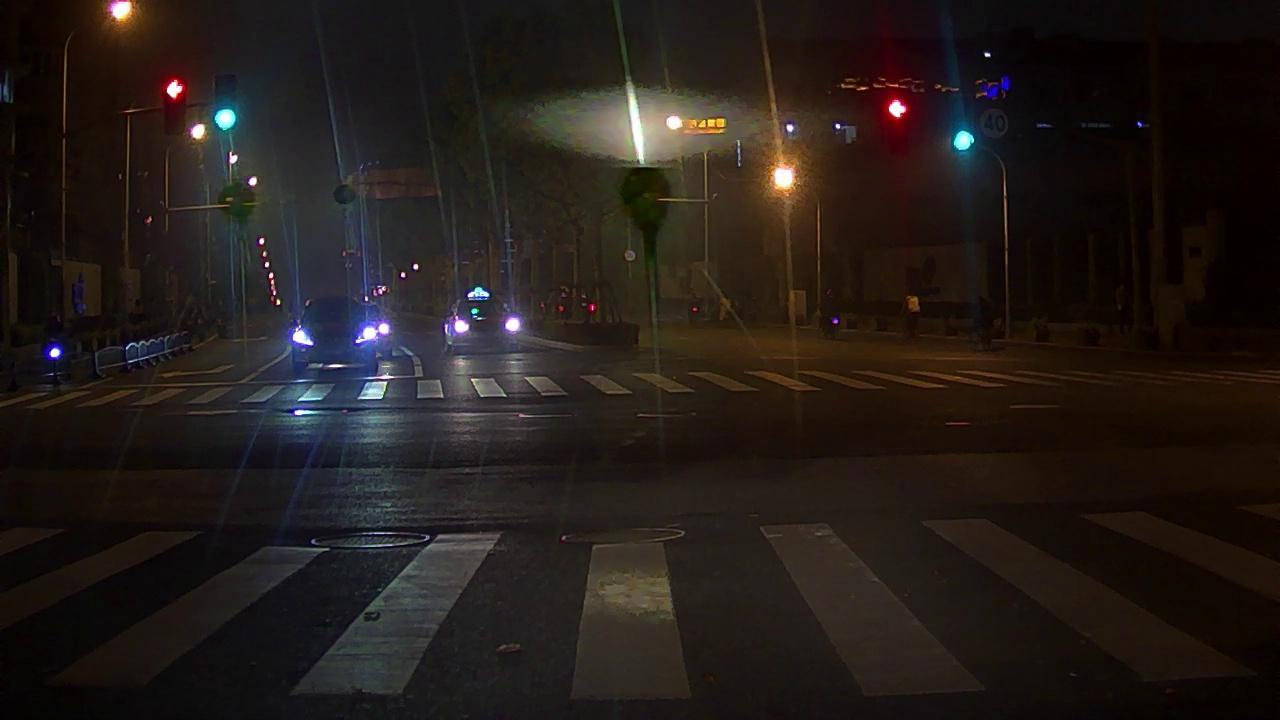traffic_light: (162, 75, 183, 133), (216, 75, 236, 134), (955, 130, 972, 153), (888, 100, 906, 119)
